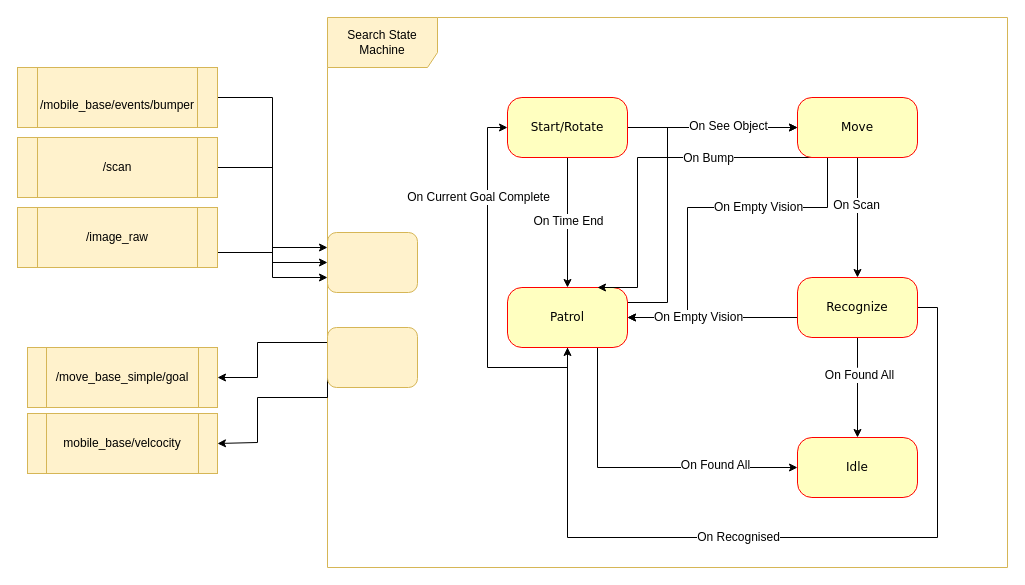
Image size: 1025x585. Some labels were removed from this diagram. The shapes that lost their labels are listed below. From the top down, each one's centre as x and y in pixels, then its label:
At pixel 372 262: "in".
At pixel 372 357: "Out".
